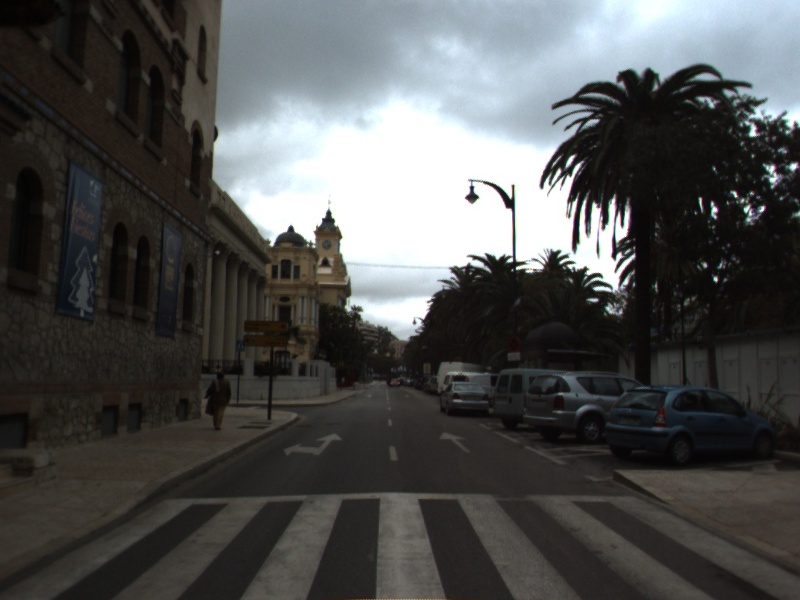STRAIGHT: (437, 430, 473, 455)
STRAIGHT_LEFT: (281, 431, 344, 458)
